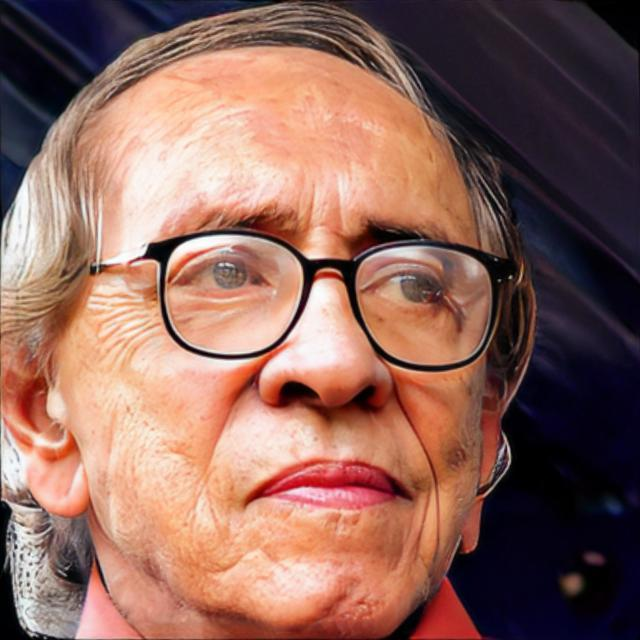sad: (108, 86, 493, 640)
